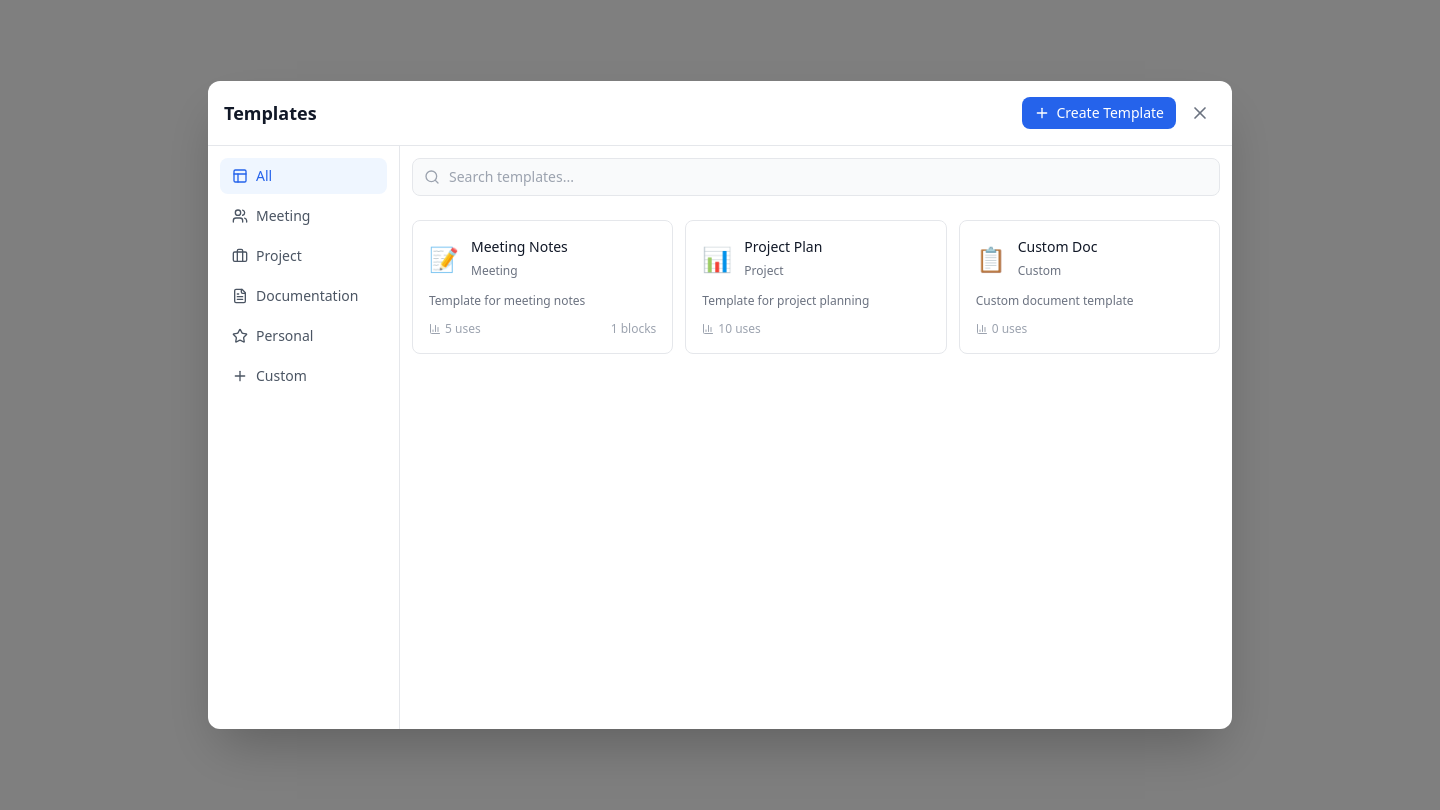
TemplateGallery › shows "no templates" when filtered to empty
Type "nonexistent" into the field with placeholder "Search templates..." at (816, 177), box [412,158,1220,196]
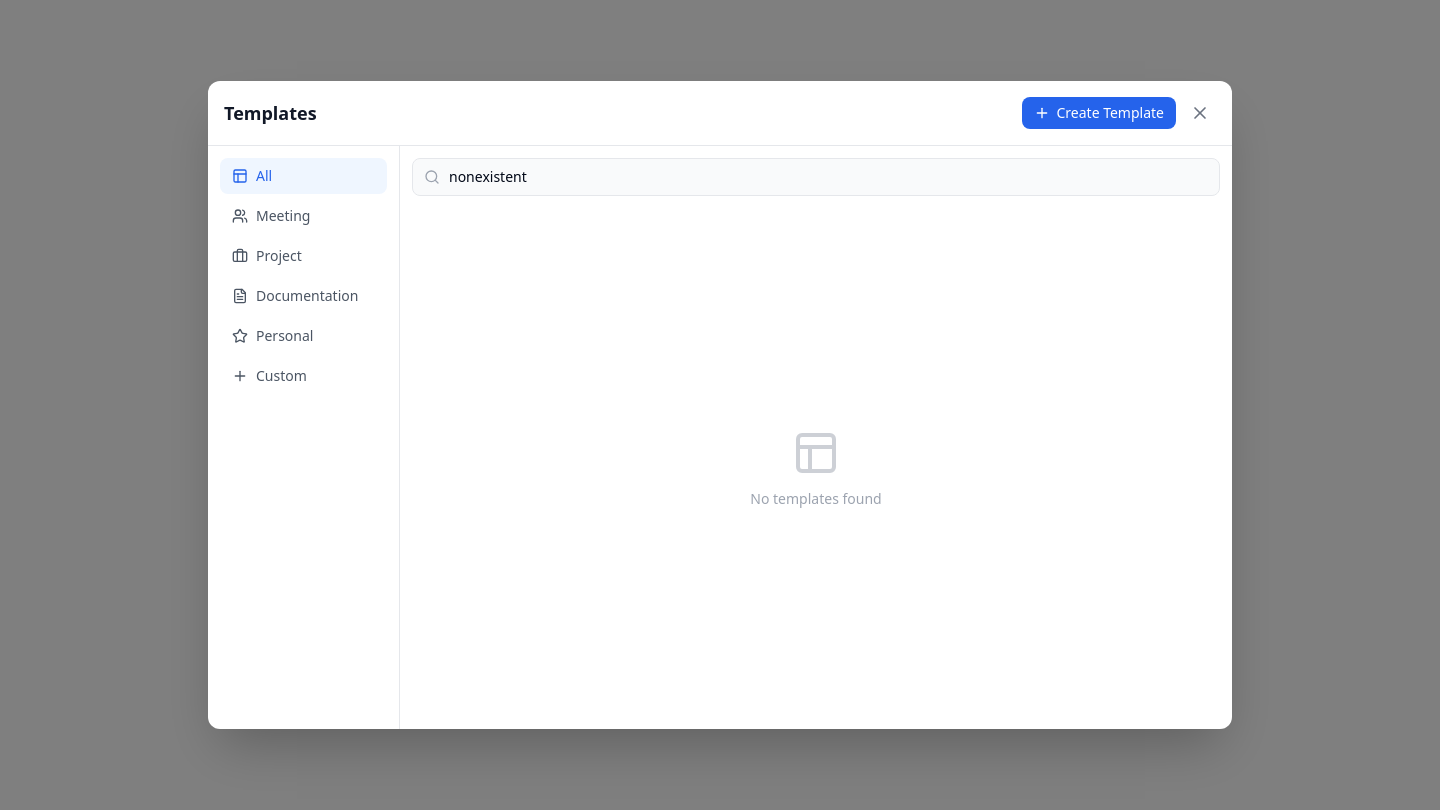
Result: the text "No templates found" is shown at [750,488,882,508]
